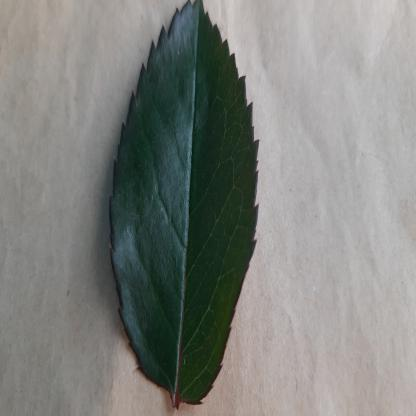normal: (106, 5, 260, 408)
